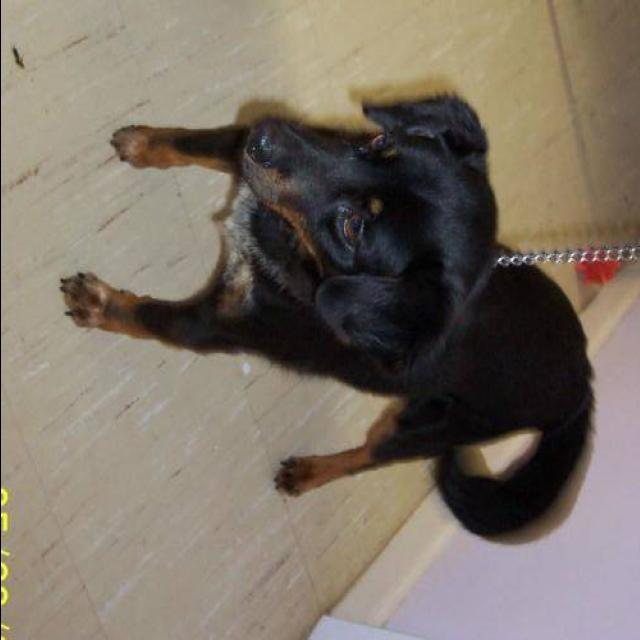dog: (68, 64, 614, 554)
